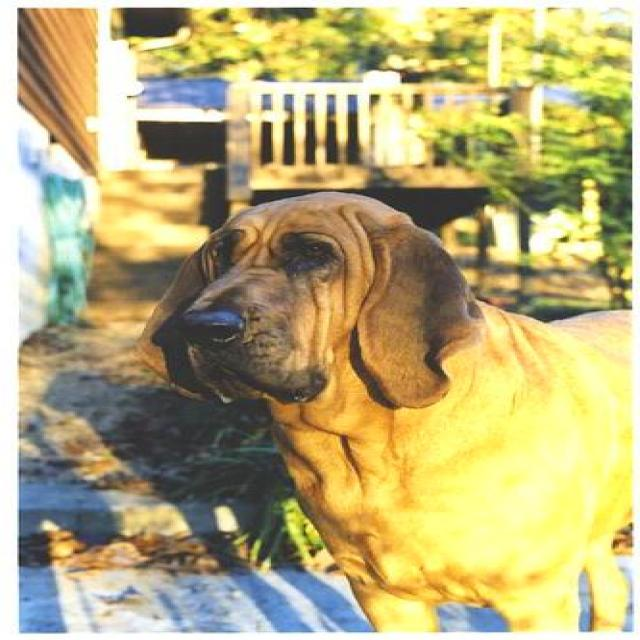bloodhound: (138, 190, 634, 634)
